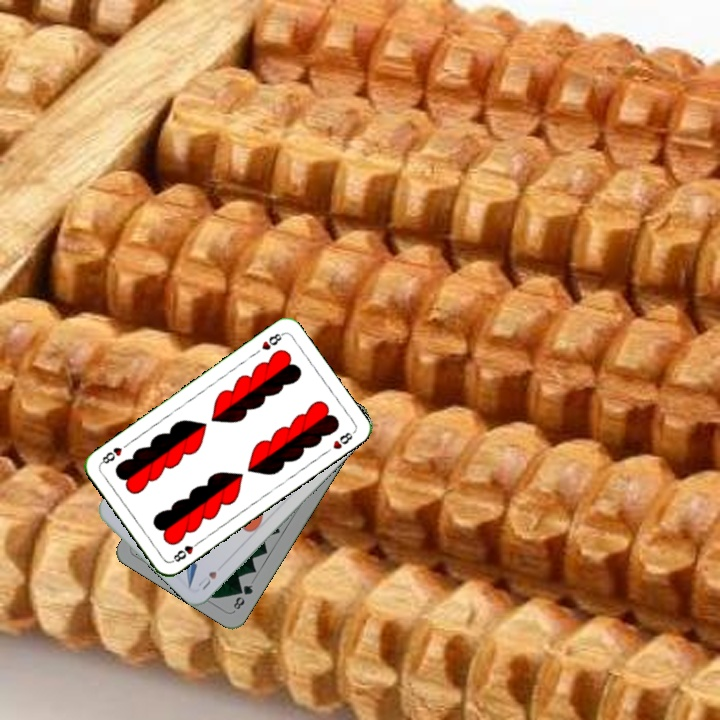G8: (229, 581, 255, 614)
H8: (167, 537, 203, 565), (257, 329, 286, 353)
HU: (194, 567, 219, 593)
